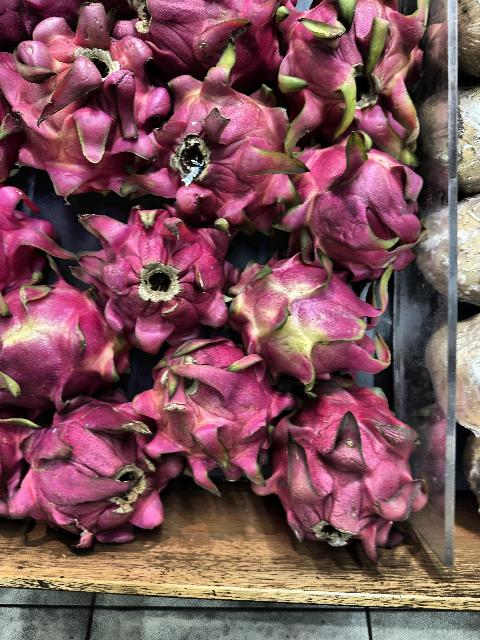buah-naga-belum-matang: (225, 250, 394, 384), (0, 280, 128, 406)
buah-naga-matang: (263, 368, 435, 558), (72, 196, 244, 348), (272, 0, 436, 158), (2, 12, 154, 180), (15, 388, 171, 544), (128, 332, 278, 482), (146, 74, 298, 220), (276, 130, 418, 268), (141, 0, 277, 81)
